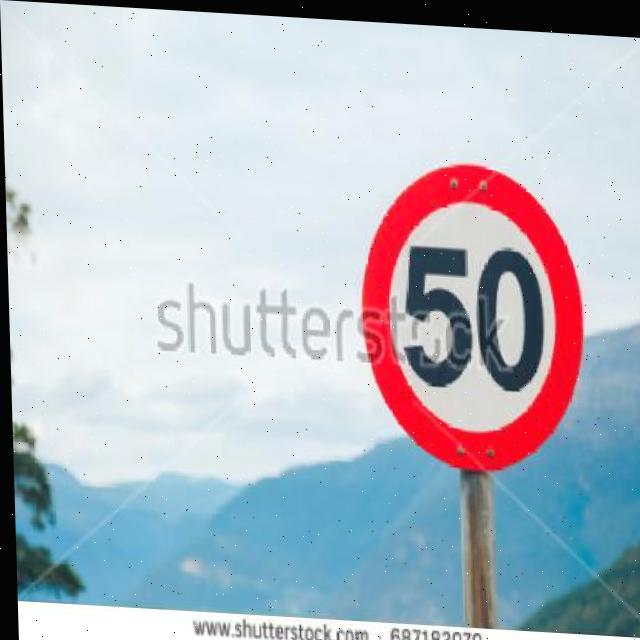Speed limit 50: (352, 148, 590, 475)
